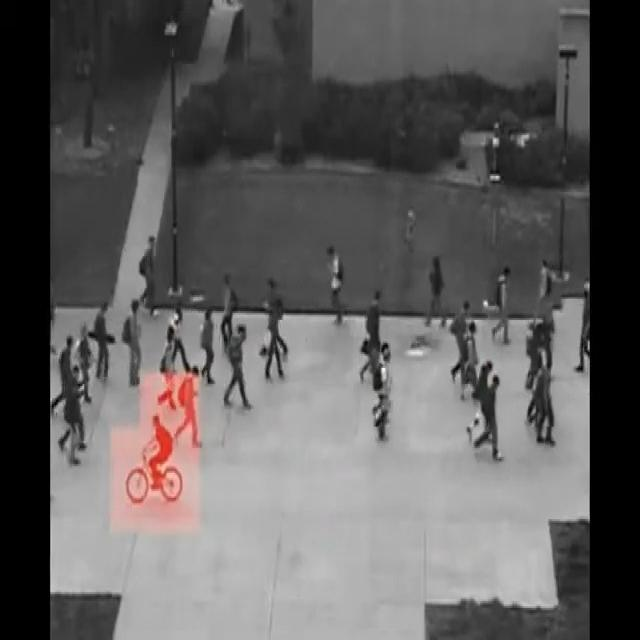anamoly: (121, 407, 189, 514)
